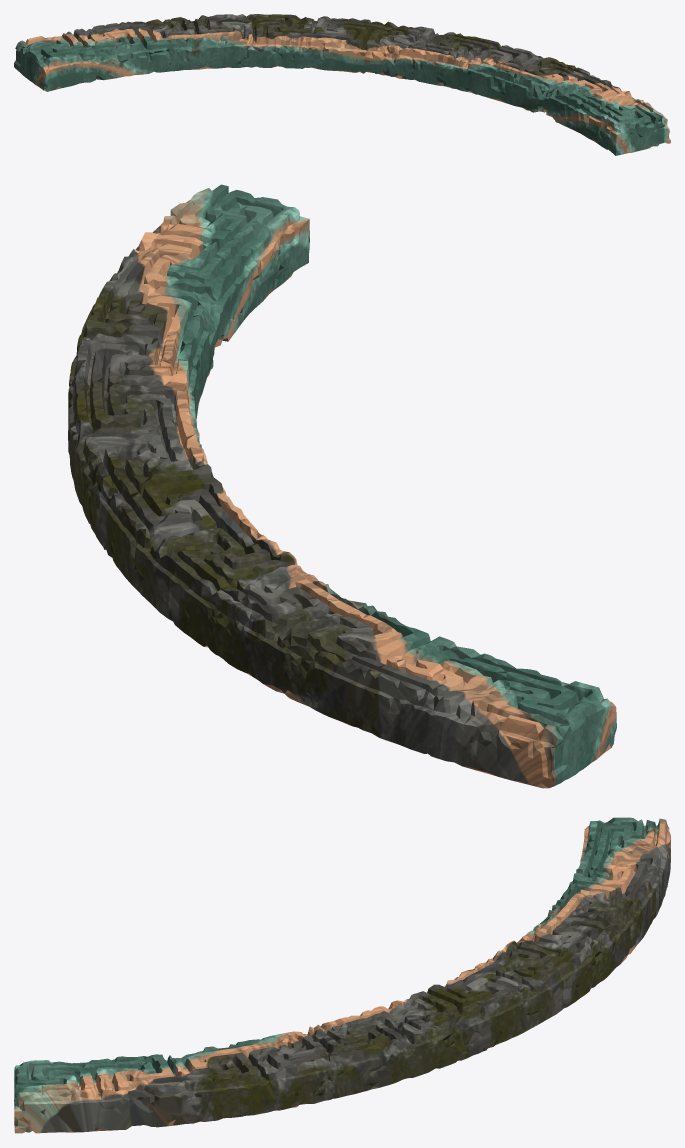
Rendered from SM_StonePattern_B.fbx.
3 renders of one model, top to bottom at view 1: azimuth 30°, elevation 25°; view 2: azimuth 150°, elevation 25°; view 3: azimuth 270°, elevation 25°, orthographic. The views are drawn at different scales.
Parts seen in each view (by area): view 1: SM_StonePattern_B_LOD0; view 2: SM_StonePattern_B_LOD0; view 3: SM_StonePattern_B_LOD0.
Part boxes in pixels (left/top/right/bottom): SM_StonePattern_B_LOD0: left=14, top=14, right=670, bottom=155; SM_StonePattern_B_LOD0: left=68, top=184, right=616, bottom=788; SM_StonePattern_B_LOD0: left=14, top=817, right=670, bottom=1133.
Size of the model in its own units: 311 by 311 by 21.12.
